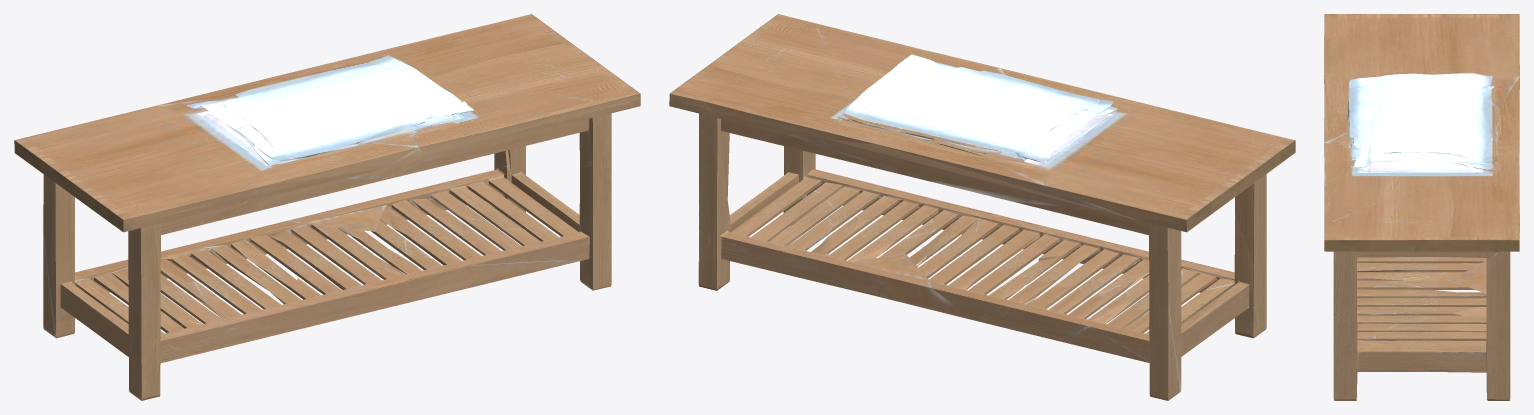
The model's file is workbench.glb.
3 renders of one model, left to right at view 1: azimuth 30°, elevation 25°; view 2: azimuth 150°, elevation 25°; view 3: azimuth 270°, elevation 25°, orthographic. The views are drawn at different scales.
Parts seen in each view (by area): view 1: Mesh_0; view 2: Mesh_0; view 3: Mesh_0.
Boxes of the visible parts, x1,y1,x2,y2 form: Mesh_0: (14, 14, 640, 400); Mesh_0: (669, 14, 1295, 400); Mesh_0: (1324, 14, 1519, 400).
Size of the model in its own units: 1.9 by 0.7222 by 0.6942.
Materials: 1 (1 with a texture image).
